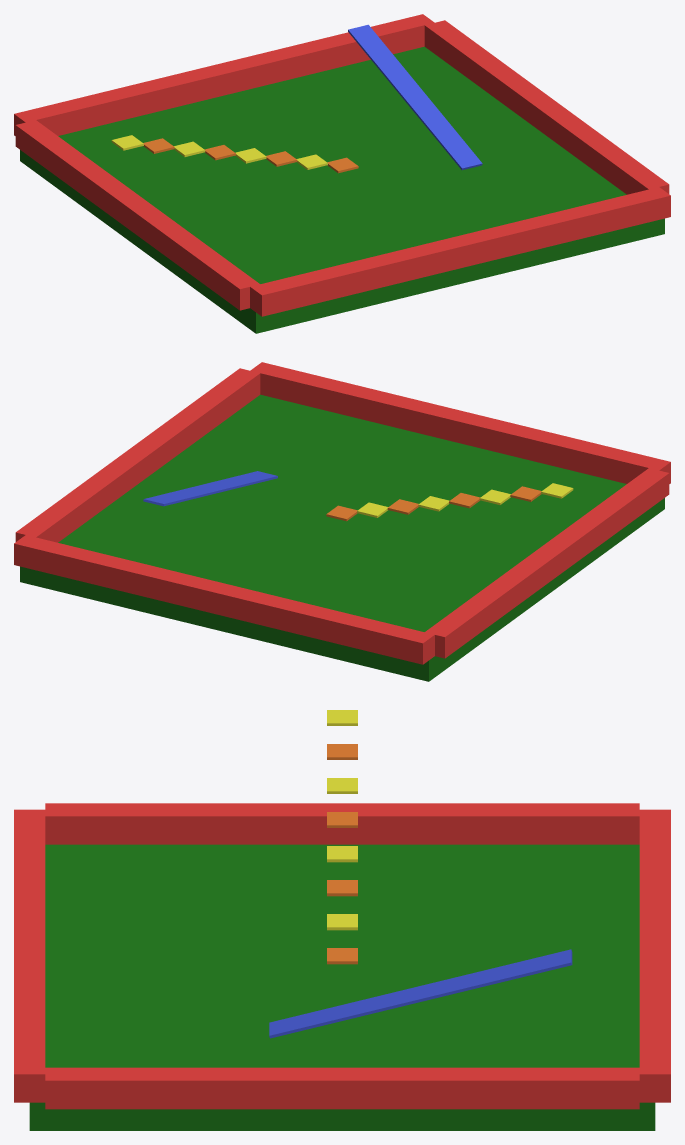
The picture shows the model from 3 angles, top to bottom: view 1: azimuth 30°, elevation 25°; view 2: azimuth 150°, elevation 25°; view 3: azimuth 270°, elevation 25°; orthographic projection. The views are drawn at different scales.
Visible parts, largest first — view 1: Cube, Cube.004, Cube.001, Cube.003, Cube.002, Cube.006; view 2: Cube, Cube.001, Cube.004, Cube.003, Cube.002, Cube.006; view 3: Cube, Cube.002, Cube.003, Cube.001, Cube.004, Cube.006.
Part boxes in pixels (box(x1,y1,x2,y2)): Cube: box(20, 46, 664, 333); Cube.004: box(250, 187, 670, 316); Cube.001: box(14, 14, 434, 135); Cube.003: box(15, 120, 259, 310); Cube.002: box(424, 20, 669, 194); Cube.006: box(348, 24, 482, 170); Cube: box(20, 394, 664, 681); Cube.001: box(14, 535, 434, 664); Cube.004: box(250, 362, 670, 483); Cube.003: box(425, 468, 669, 658); Cube.002: box(15, 368, 260, 542); Cube.006: box(143, 471, 277, 506); Cube: box(29, 844, 655, 1130); Cube.002: box(45, 1067, 639, 1109); Cube.003: box(45, 803, 639, 844); Cube.001: box(639, 809, 670, 1102); Cube.004: box(14, 809, 45, 1102); Cube.006: box(269, 949, 572, 1038).
Bounding box in the file's own units: 43 × 10.1 × 42.
